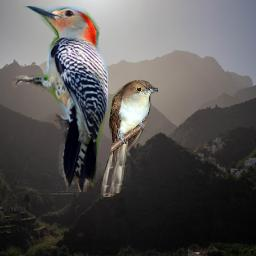Cuckoo: (101, 79, 158, 197)
Woodpecker: (12, 6, 108, 192)
